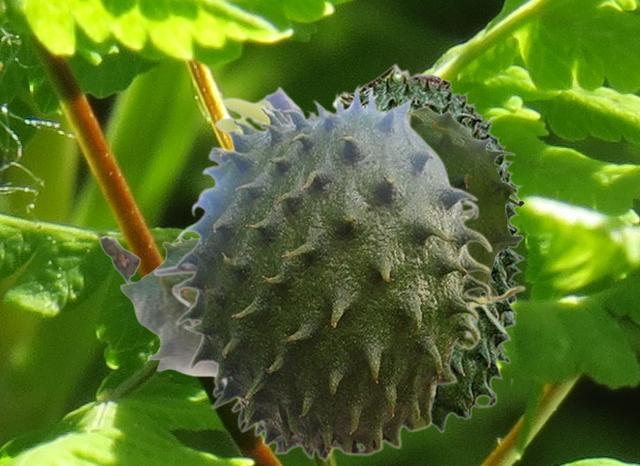guyabano: (152, 82, 526, 462), (98, 106, 524, 377), (328, 62, 525, 432)
